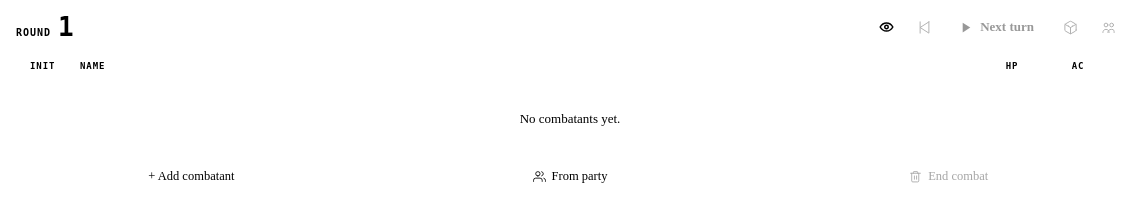
it: From party - DEX-modified initiative › adds a party member's DEX modifier to the default initiative when their stored value is 0
Step 1. Click the button "From party" → [570, 176], box [381,159,759,194]
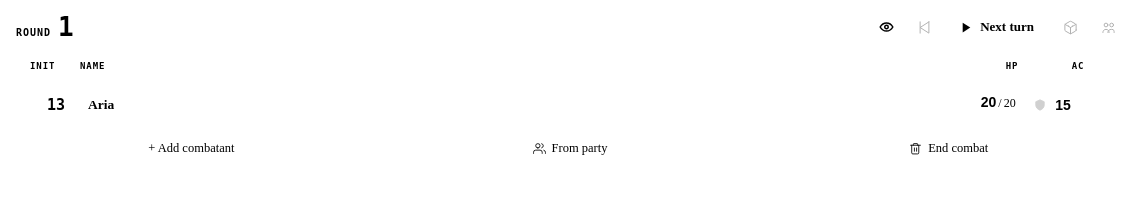
Check: the number field showing "13" is shown, box [36,96,76,114]
